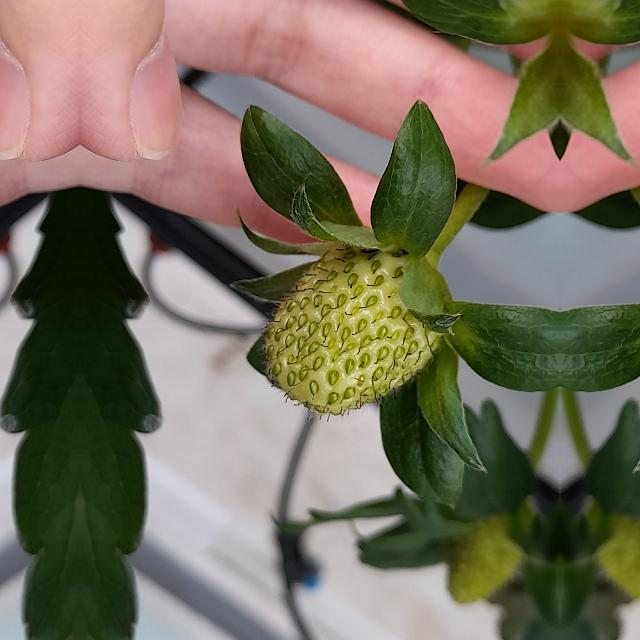Health_25: (256, 244, 442, 420)
